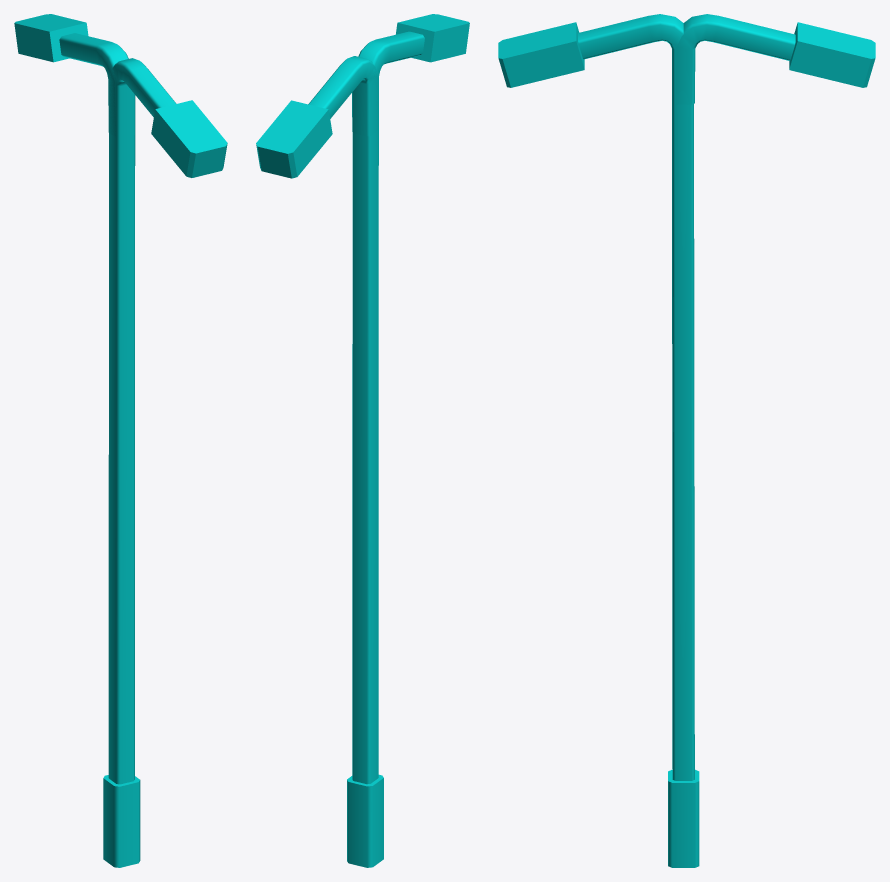
Rendered from StreetLightA1.fbx.
3 views of the same model, side by side, from view 1: azimuth 30°, elevation 25°; view 2: azimuth 150°, elevation 25°; view 3: azimuth 270°, elevation 25° (orthographic). The views are drawn at different scales.
Parts seen in each view (by area): view 1: StreetLightA1; view 2: StreetLightA1; view 3: StreetLightA1.
Part boxes in pixels (bbox=[...]): StreetLightA1: bbox=[14, 14, 227, 867]; StreetLightA1: bbox=[256, 14, 469, 867]; StreetLightA1: bbox=[498, 14, 875, 867].
Size of the model in its own units: 23.68 by 490 by 199.
